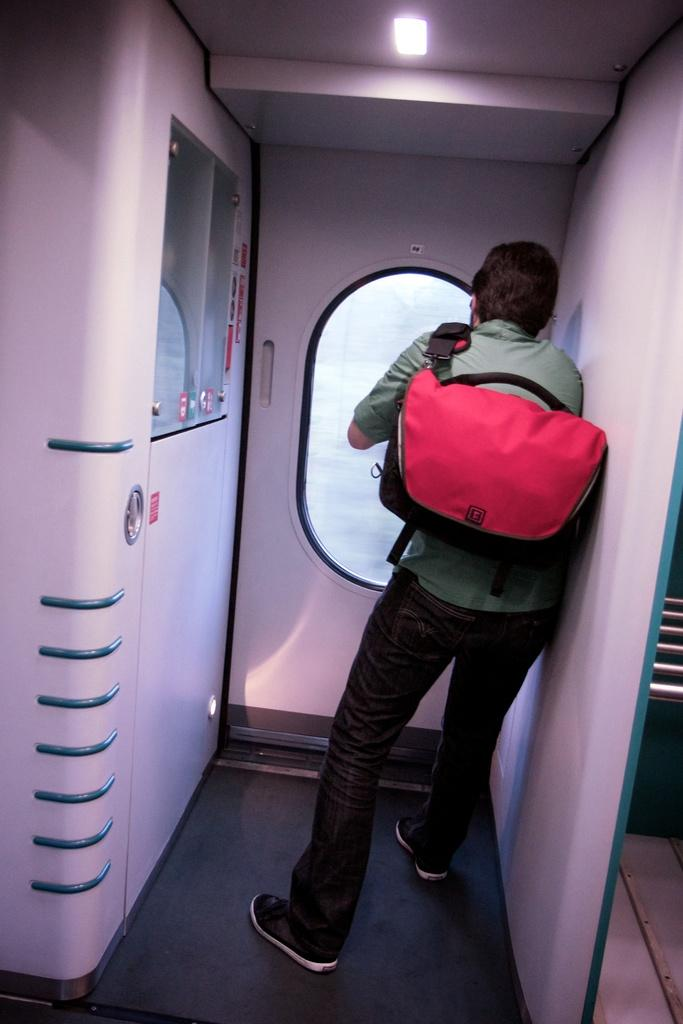Luggage-and-bags: (367, 357, 607, 557)
